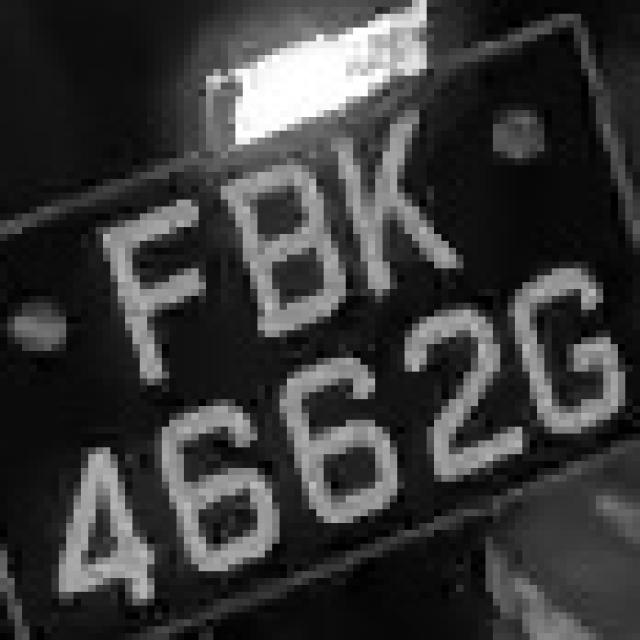2: (390, 303, 522, 495)
4: (14, 427, 154, 626)
6: (272, 351, 434, 537), (147, 399, 280, 592)
B: (221, 138, 338, 358)
F: (81, 179, 228, 378)
G: (500, 248, 640, 461)
K: (331, 110, 463, 310)
